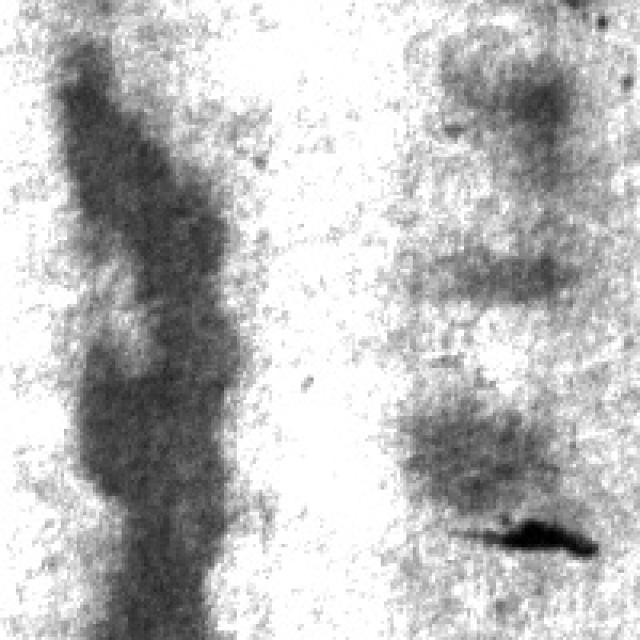patches: (42, 26, 246, 634), (387, 394, 573, 531), (458, 48, 576, 182)
